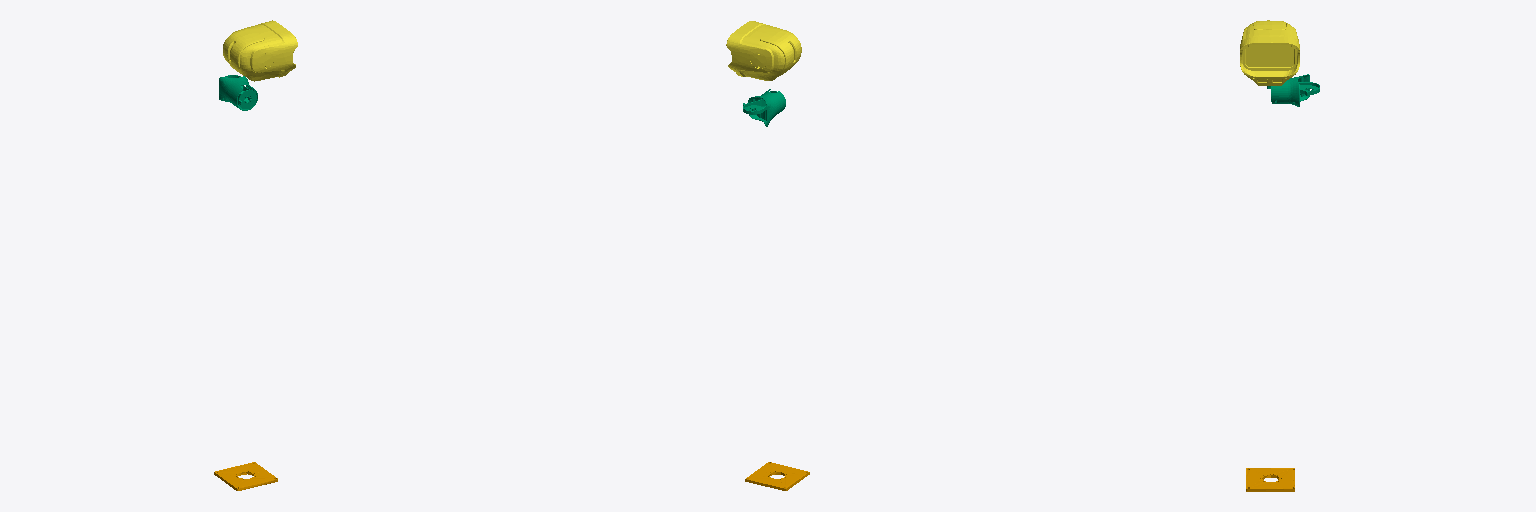
URDF robot description (Alex):
<?xml version = "1.0" ?>
<robot name="Alex">
    <!-- NECK, & HEAD JOINTS -->
    <joint name="PEDESTAL_F" type="revolute">
        <origin rpy="0 0 0" xyz="0 0 1"/>
        <parent link="PEDESTAL_LINK"/>
        <child link="TORSO_LINK"/>
        <limit effort="0.0" lower="0.0" upper="0.0" velocity="0.0"/>
        <dynamics damping="0.0" friction="0.0"/>
    </joint>

    <joint name="NECK_Z" type="revolute">
        <origin rpy="0 0 0" xyz="0.0072 0 0.4669"/>
        <axis xyz="0 0 1"/>
        <parent link="TORSO_LINK"/>
        <child link="NECK_Z_LINK"/>
        <limit effort="20.86" lower="-1.22173" upper="1.22173" velocity="17.3"/>
        <dynamics damping="0.05" friction="0.0"/>
    </joint>

    <joint name="NECK_Y" type="revolute">
        <origin rpy="0 0 0" xyz="0.015 -0.013 0.130"/>
        <axis xyz="0 1 0"/>
        <parent link="NECK_Z_LINK"/>
        <child link="HEAD_LINK"/>
        <limit effort="20.86" lower="-0.488692" upper="0.488692" velocity="17.3"/>
        <dynamics damping="0.05" friction="0.0"/>
    </joint>

    <!-- TORSO, NECK, & HEAD LINKS -->
    <link name="PEDESTAL_LINK">
        <inertial>
            <mass value="0.72380912"/>
            <origin rpy="0 0 0" xyz="0.00000416 -9.214E-7 0.02113924"/>
            <inertia ixx="0.00176605" ixy="-1.625E-7" ixz="-2.679E-9" iyy="0.00176535" iyz="5.938E-10" izz="0.00351695"/>
        </inertial>
        <visual>
            <geometry>
                <mesh filename="package://alex_purdue_description/meshes/torso_head/pedestal_purdue.obj"/>
            </geometry>
            <origin rpy="0.0 0.0 0.0" xyz="0 0 0.0"/>
        </visual>
    </link>

    <link name="TORSO_LINK">
        <inertial>
            <mass value="15.12587484"/>
            <origin rpy="0 0 0" xyz="0.00387685 0.00076817 0.29513974"/>
            <inertia ixx="0.27907278" ixy="0.00038347" ixz="0.01940091" iyy="0.24300602" iyz="0.00098669" izz="0.17172871"/>
        </inertial>
        <visual>
            <geometry>
                <mesh filename="package://alex_purdue_description/meshes/torso_head/torso_purdue.obj"/>
            </geometry>
            <origin rpy="0.0 0.0 0.0" xyz="0 0 0"/>
        </visual>
    </link>

    <link name="NECK_Z_LINK">
        <inertial>
            <mass value="0.35018021"/>
            <origin rpy="0 0 0" xyz="0.00219772 -0.00061535 0.0631763"/>
            <inertia ixx="0.00083944" ixy="0.00001358" ixz="-0.00004823" iyy="0.00094957" iyz="0.0000706" izz="0.00037861"/>
        </inertial>
        <visual>
            <geometry>
                <mesh filename="package://alex_purdue_description/meshes/torso_head/neck_purdue.obj"/>
            </geometry>
            <origin rpy="0.0 0.0 0.0" xyz="0 0 0.0"/>
        </visual>
    </link>

    <link name="HEAD_LINK">
        <inertial>
            <mass value="2.53238993"/>
            <origin rpy="0 0 0" xyz="0.02203239 0.01559991 0.03487138"/>
            <inertia ixx="0.0099523" ixy="0.00038238" ixz="0.00059895" iyy="0.01235238" iyz="0.00044277" izz="0.01250517"/>
        </inertial>
        <visual>
            <geometry>
                <mesh filename="package://alex_purdue_description/meshes/torso_head/head_purdue.obj"/>
            </geometry>
            <origin rpy="0.0 0.0 0.0" xyz="0.0 0.0 0.0"/>
        </visual>
        <collision name="head_collision">
            <origin xyz="0.03237 -0.013568 0.007163" rpy="0 0 0"/>
            <geometry>
                <sphere radius="0.14"/>
            </geometry>
        </collision>
    </link>

    <!-- HEAD ZED X MINI -->
    <joint name="HEAD_ZED_X_MINI_JOINT" type="fixed">
        <origin rpy="0.0 0.3633 0.0" xyz="0.11603 0.009965 -0.02983"/>
        <parent link="HEAD_LINK"/>
        <child link="HEAD_ZED_X_MINI_LINK"/>
    </joint>
    <link name="HEAD_ZED_X_MINI_LINK">
        <inertial>
            <mass value="0"/>
            <origin rpy="0 0 0" xyz="0 0 0"/>
            <inertia ixx="0.0" ixy="0.0" ixz="0.0" iyy="0.0" iyz="0.0" izz="0.0"/>
        </inertial>
        <visual>
            <geometry>
                <mesh filename="package://alex_V1_description/meshes/ZEDXMini.obj"/>
            </geometry>
            <origin rpy="0.0 0.0 0.0" xyz="0.0 0.0 0.0"/>
        </visual>
    </link>

    <!-- HEAD IMU -->
    <joint name="HEAD_IMU_JOINT" type="fixed">
        <origin rpy="0.0 0.0 0.0" xyz="-0.02432603 -0.00225290 0.07425800"/>
        <axis xyz="0 0 1"/>
        <parent link="HEAD_LINK"/>
        <child link="HEAD_IMU_LINK"/>
    </joint>
    <link name="HEAD_IMU_LINK">
        <inertial>
            <mass value="0"/>
            <origin rpy="0 0 0" xyz="0 0 0"/>
            <inertia ixx="0.0" ixy="0.0" ixz="0.0" iyy="0.0" iyz="0.0" izz="0.0"/>
        </inertial>
    </link>
    <gazebo reference="HEAD_IMU_LINK">
        <sensor name="head_imu" type="imu">
            <always_on>true</always_on>
            <imu>
                <noise>
                    <type>gaussian</type>
                    <rate>
                        <mean>0</mean>
                        <stddev>0.0002</stddev>
                        <bias_mean>7.5e-06</bias_mean>
                        <bias_stddev>8e-07</bias_stddev>
                    </rate>
                    <accel>
                        <mean>0</mean>
                        <stddev>0.017</stddev>
                        <bias_mean>0.1</bias_mean>
                        <bias_stddev>0.001</bias_stddev>
                    </accel>
                </noise>
            </imu>
        </sensor>
    </gazebo>

    <!-- TORSO IMU -->
    <joint name="TORSO_IMU_JOINT" type="fixed">
        <origin rpy="-1.561264 -0.329453 -1.570796" xyz="0.094766 0.018319 0.255014"/> <!-- Added 0.009536 roll, 0.002147 pitch bias -->
        <axis xyz="0 0 1"/>
        <parent link="TORSO_LINK"/>
        <child link="TORSO_IMU_LINK"/>
    </joint>

    <link name="TORSO_IMU_LINK">
        <inertial>
            <mass value="0"/>
            <origin rpy="0 0 0" xyz="0 0 0"/>
            <inertia ixx="0.0" ixy="0.0" ixz="0.0" iyy="0.0" iyz="0.0" izz="0.0"/>
        </inertial>
    </link>

    <gazebo reference="TORSO_IMU_LINK">
        <sensor name="torso_imu" type="imu">
            <always_on>true</always_on>
            <imu>
                <noise>
                    <type>gaussian</type>
                    <rate>
                        <mean>0</mean>
                        <stddev>0.0002</stddev>
                        <bias_mean>7.5e-06</bias_mean>
                        <bias_stddev>8e-07</bias_stddev>
                    </rate>
                    <accel>
                        <mean>0</mean>
                        <stddev>0.017</stddev>
                        <bias_mean>0.1</bias_mean>
                        <bias_stddev>0.001</bias_stddev>
                    </accel>
                </noise>
            </imu>
        </sensor>
    </gazebo>
</robot>

--- What the picture shows (computed from the rendered views, not written in the file) ---
3 views of the same robot in one strip: view 1: azimuth 30°, elevation 25°; view 2: azimuth 150°, elevation 25°; view 3: azimuth 270°, elevation 25° (orthographic).
Model Alex with 7 links and 6 joints (3 revolute, 3 fixed), rooted at PEDESTAL_LINK, posed every joint at zero.
Visible links, largest first — view 1: HEAD_LINK, PEDESTAL_LINK, NECK_Z_LINK; view 2: HEAD_LINK, PEDESTAL_LINK, NECK_Z_LINK; view 3: HEAD_LINK, PEDESTAL_LINK, NECK_Z_LINK.
Boxes of the visible links, box(x1,y1,x2,y2) form: HEAD_LINK: box(223, 20, 297, 81); PEDESTAL_LINK: box(214, 462, 277, 490); NECK_Z_LINK: box(219, 75, 257, 110); HEAD_LINK: box(726, 21, 801, 80); PEDESTAL_LINK: box(745, 462, 809, 490); NECK_Z_LINK: box(743, 89, 785, 126); HEAD_LINK: box(1240, 20, 1299, 85); PEDESTAL_LINK: box(1246, 468, 1294, 491); NECK_Z_LINK: box(1267, 74, 1319, 106).
Bounding box of the posed robot: 0.2336 × 0.2714 × 1.7 m (x, y, z).
3 mesh visuals loaded from 5 distinct referenced files (3 OBJ); not drawn: 2 (reference not matched to a file when rendering).
